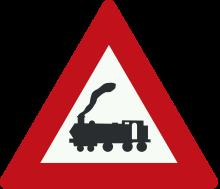Barrier Ahead: (13, 9, 211, 184)
